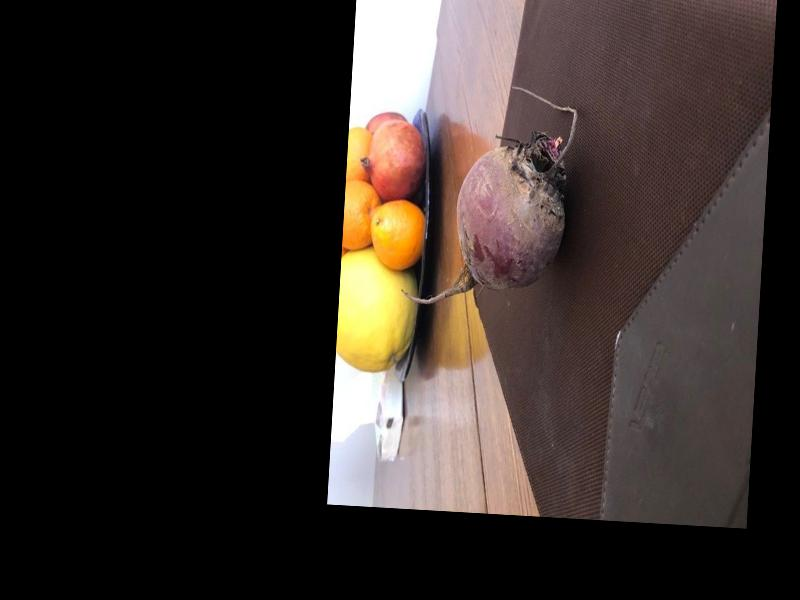Beet: (399, 79, 579, 313)
